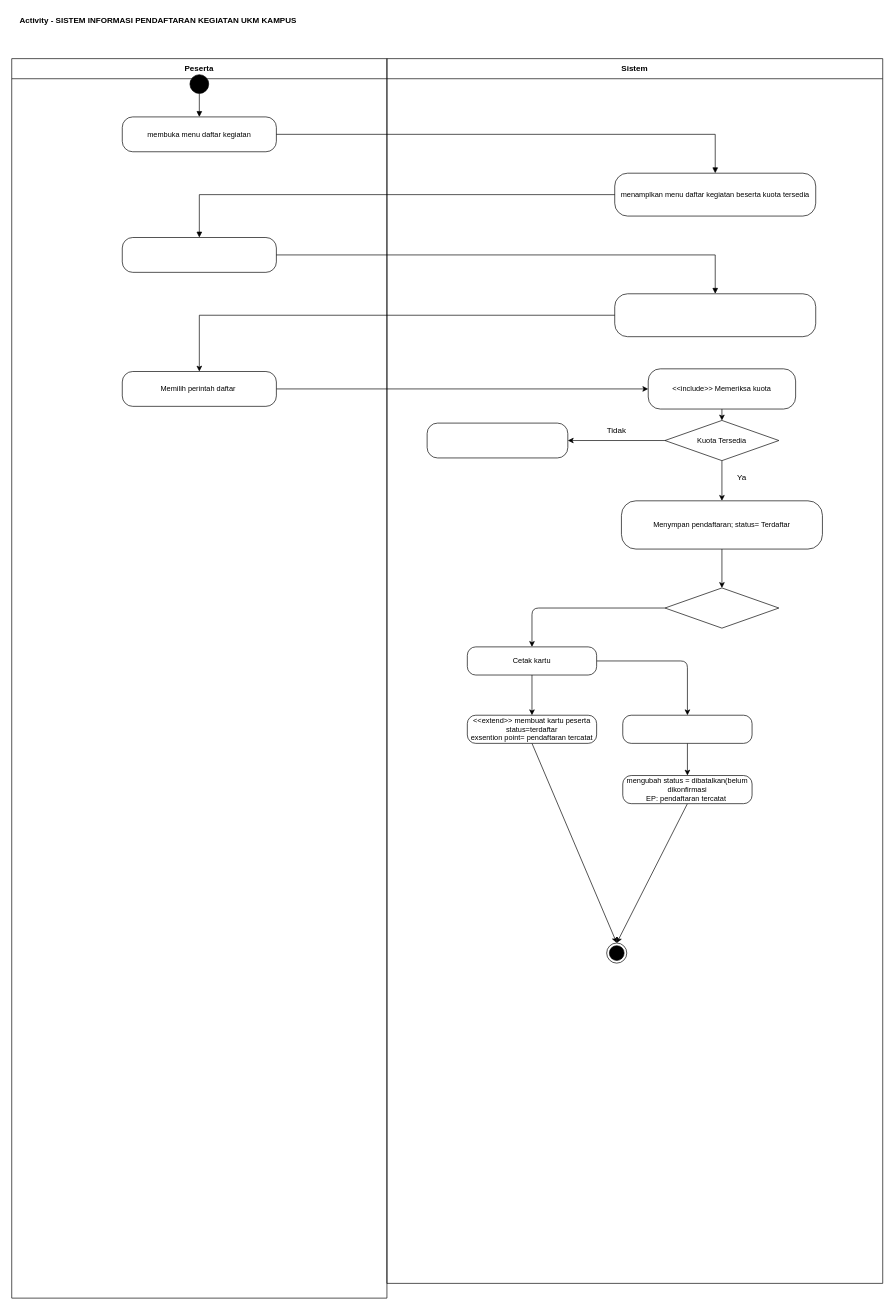
Image size: 894x1310. Some labels were removed from this diagram. The shapes that lost their labels are listed below. From the top down, each one's centre as x and y in pixels, then its label:
At (x=199, y=254): "Memilih kegiatan".
At (x=715, y=315): "Menampilkan detail kegiatan".
At (x=497, y=440): "Menampilkan pesan kuota penuh, pendaftaran tidak disimpan".
At (x=721, y=607): "Aksi Lanjutan".
At (x=687, y=729): "memilih batalkan pendaftaran (sebelum dikonfirmasi)".
